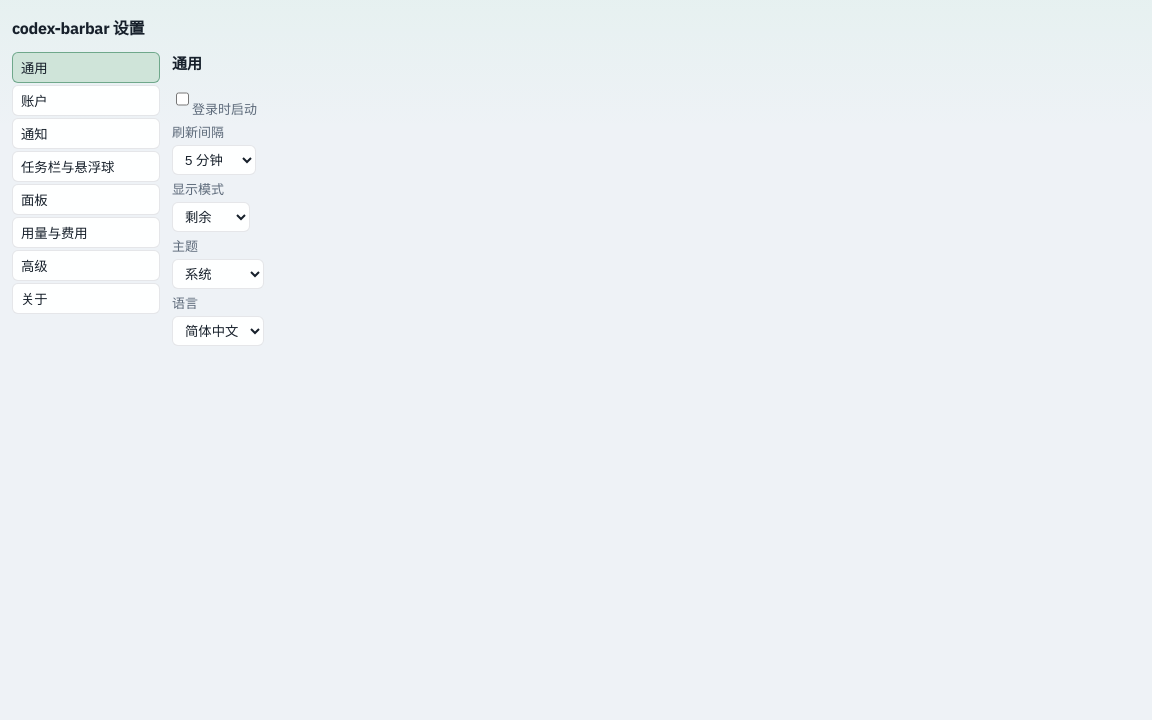
Settings surface › localizes the managed-login dialog in Chinese
The image size is (1152, 720).
Click the button "账户" at {"x": 86, "y": 100}, box [12,85,160,116]
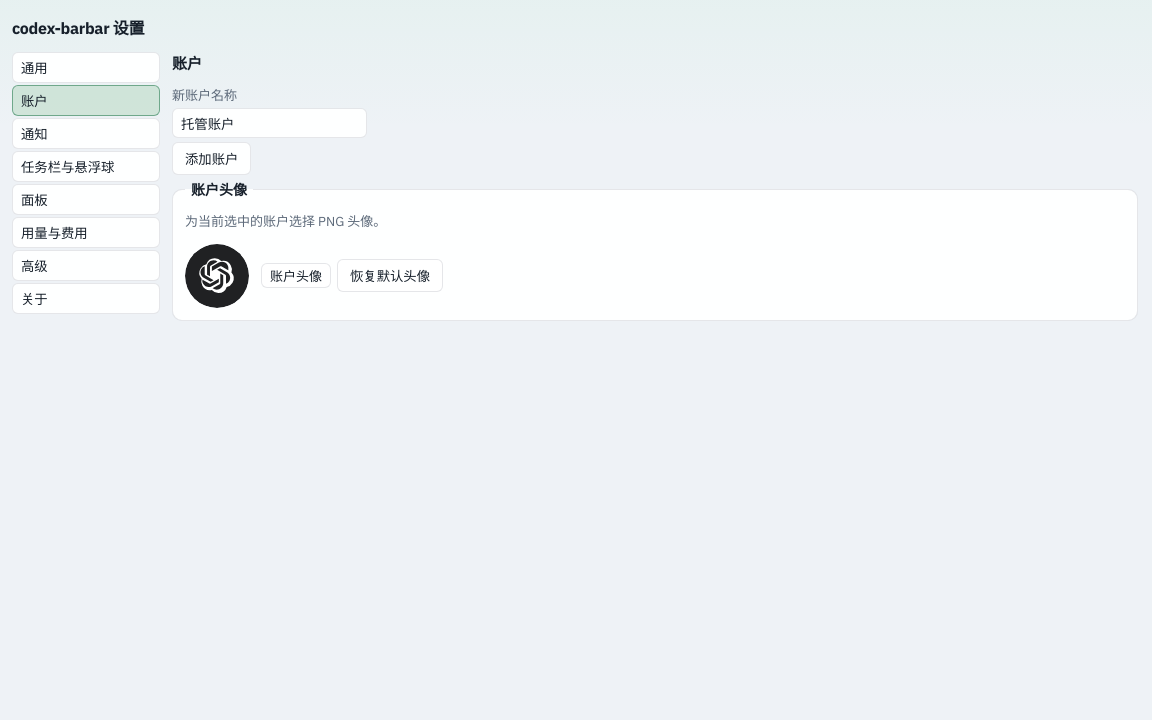
Click the button "添加账户" at {"x": 212, "y": 158}, box [172,142,251,175]
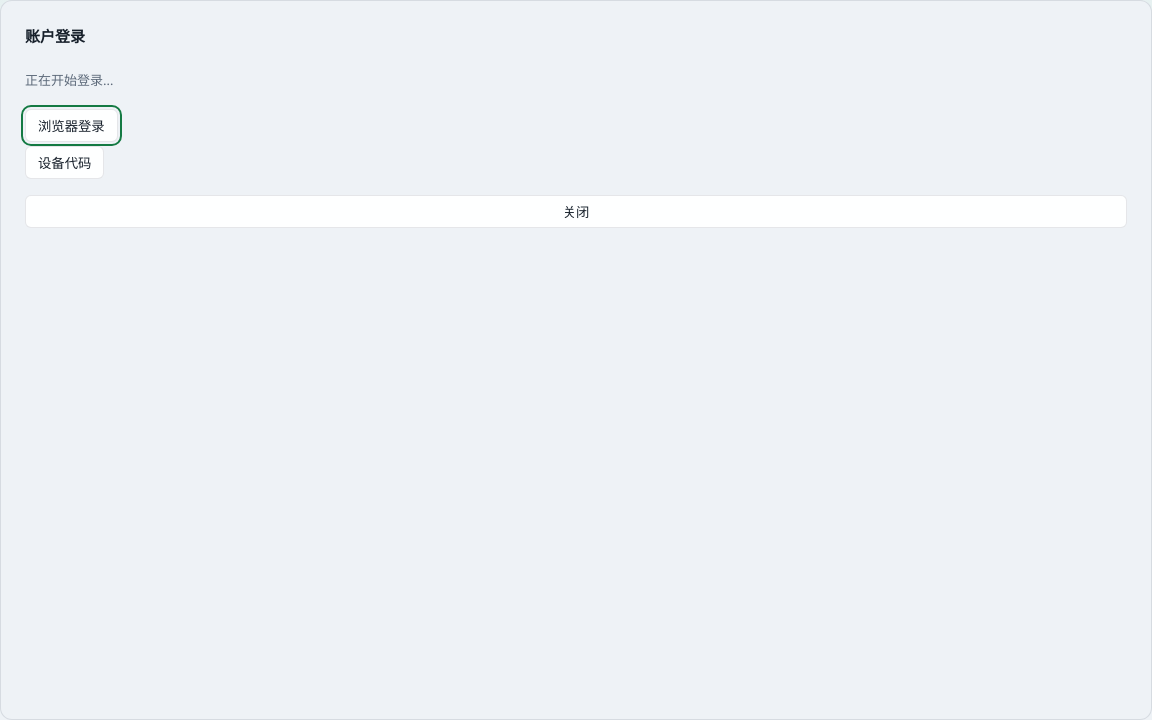
expect the heading "账户登录" is shown: met, box [25,27,85,46]
expect the button "浏览器登录" is shown: met, box [25,109,118,142]
